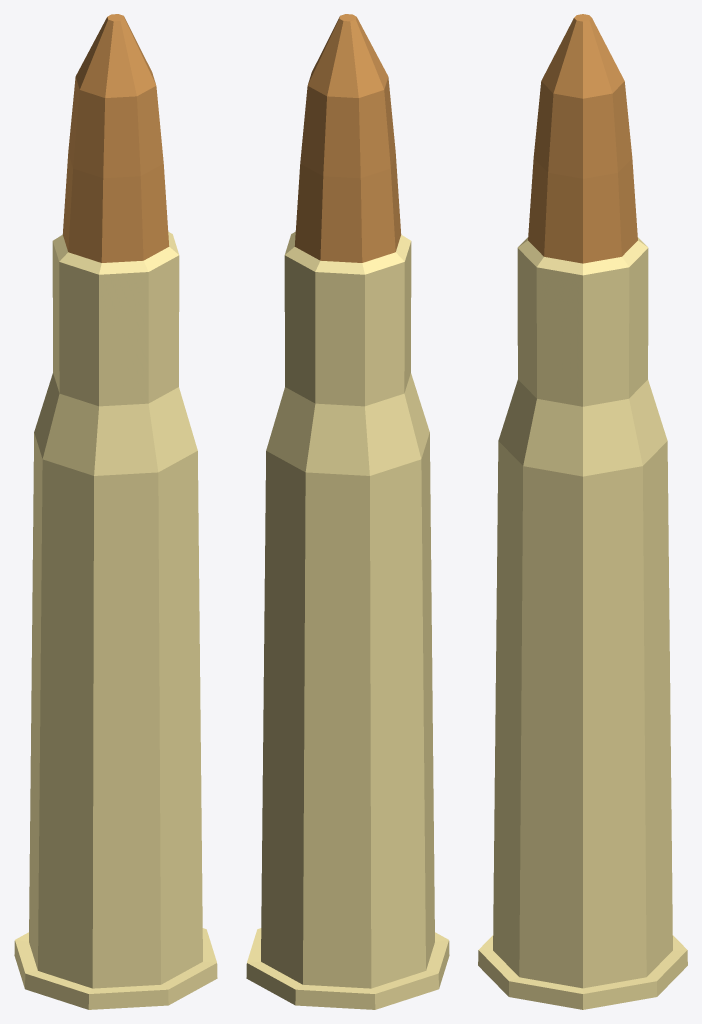
Rendered from cartridges3.fbx.
3 views of the same model, side by side, from view 1: azimuth 30°, elevation 25°; view 2: azimuth 150°, elevation 25°; view 3: azimuth 270°, elevation 25° (orthographic).
Visible parts, largest first — view 1: Cylinder_11; view 2: Cylinder_11; view 3: Cylinder_11.
Part boxes in pixels (x1,y1,x2,y2): Cylinder_11: [14, 14, 217, 1009]; Cylinder_11: [246, 14, 449, 1009]; Cylinder_11: [478, 14, 687, 1009].
Size of the model in its own units: 13.71 by 69.75 by 13.71.
